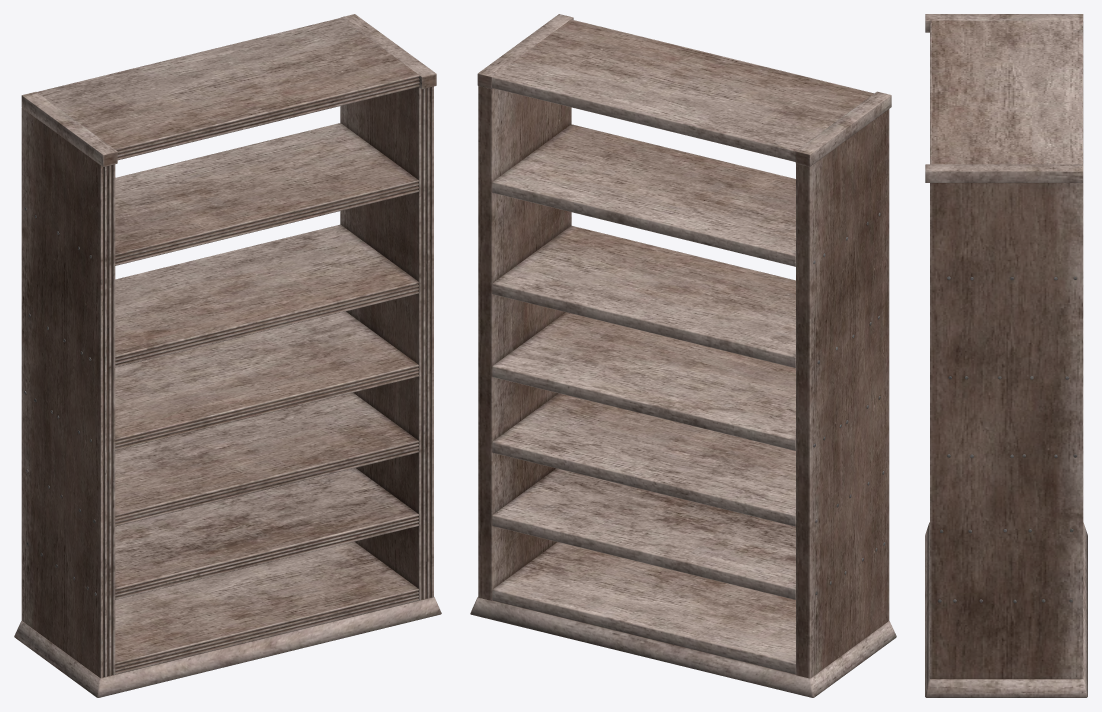
The model's file is wooden_bookshelf_worn.glb.
3 renders of one model, left to right at view 1: azimuth 30°, elevation 25°; view 2: azimuth 150°, elevation 25°; view 3: azimuth 270°, elevation 25°, orthographic. The views are drawn at different scales.
Parts seen in each view (by area): view 1: wooden_bookshelf_worn; view 2: wooden_bookshelf_worn; view 3: wooden_bookshelf_worn.
Boxes of the visible parts, <box> form: wooden_bookshelf_worn: <box>14,14,441,697</box>; wooden_bookshelf_worn: <box>470,14,896,697</box>; wooden_bookshelf_worn: <box>925,14,1087,697</box>.
Bounding box in the file's own units: 1.37 × 2.06 × 0.5814.
1 material, 1 textured.
